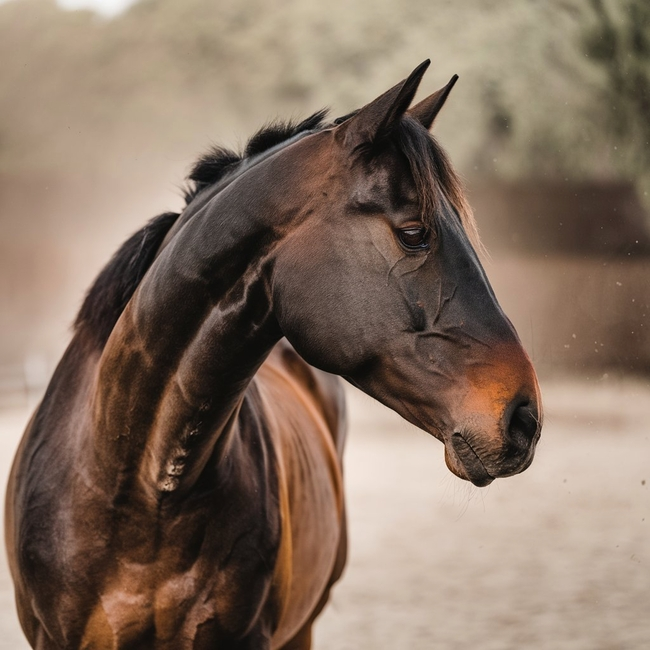horse: (4, 57, 547, 650)
